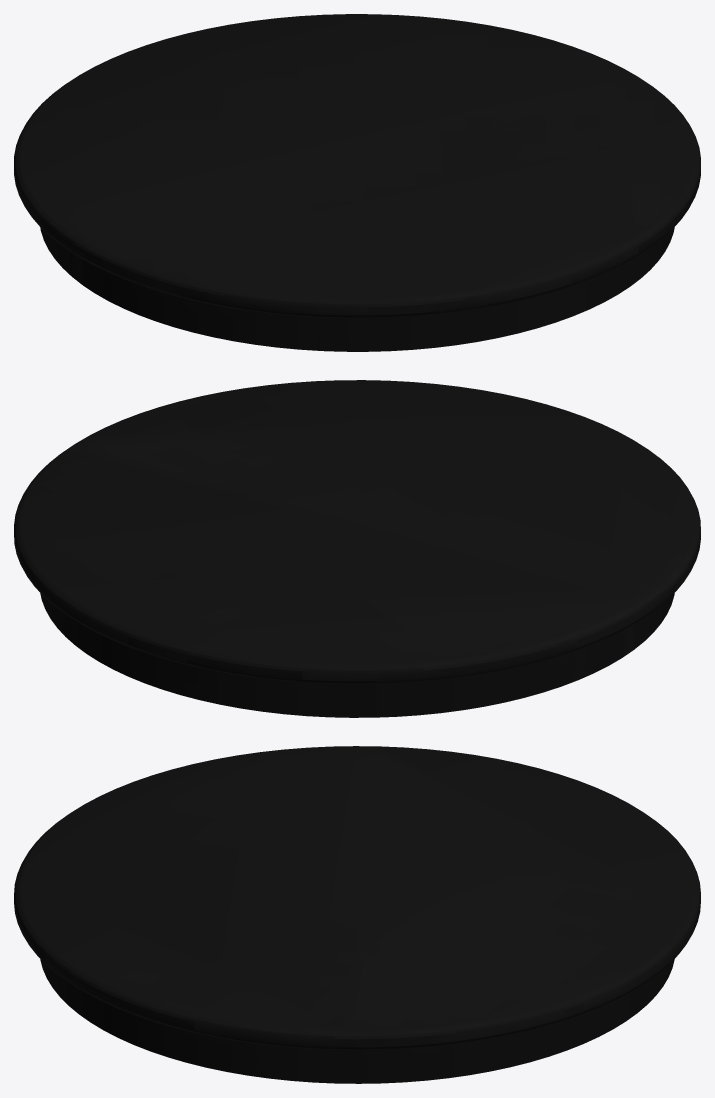
The model's file is link_1__lid-2.glb.
The picture shows the model from 3 angles, top to bottom: view 1: azimuth 30°, elevation 25°; view 2: azimuth 150°, elevation 25°; view 3: azimuth 270°, elevation 25°; orthographic projection.
Parts seen in each view (by area): view 1: geometry_0; view 2: geometry_0; view 3: geometry_0.
Boxes of the visible parts, <box> form: geometry_0: <box>14,14,700,351</box>; geometry_0: <box>14,380,700,717</box>; geometry_0: <box>14,746,700,1083</box>.
Bounding box in the file's own units: 0.4134 × 0.0404 × 0.4134.
1 material, 1 textured.
